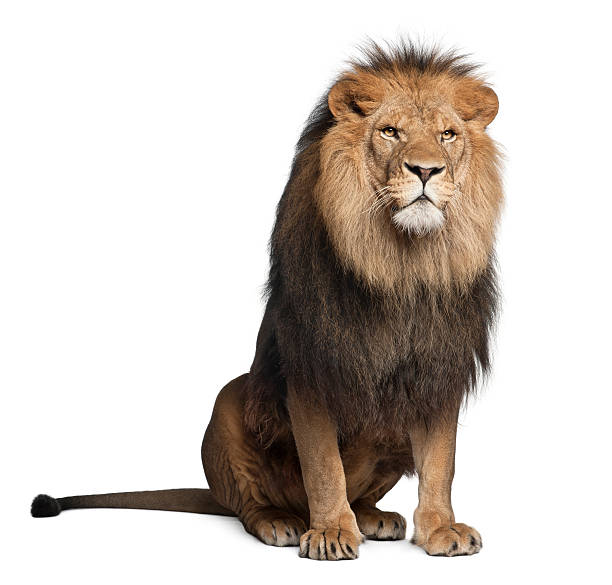lion: (243, 16, 526, 459)
